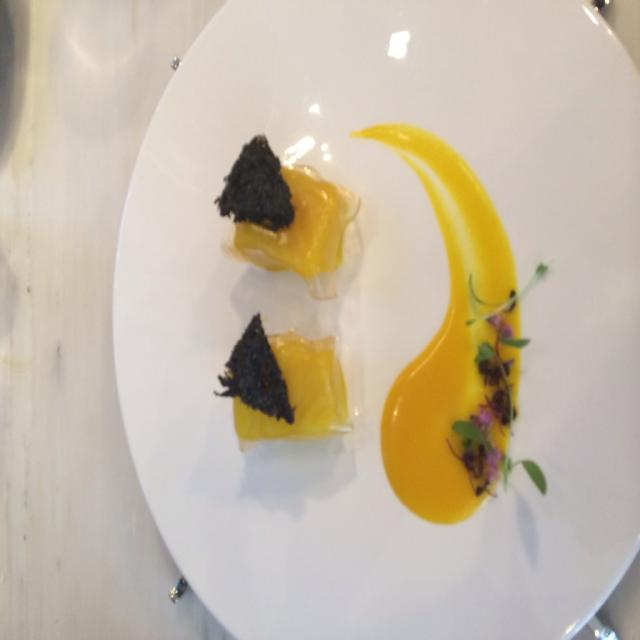non-organic waste: (109, 0, 640, 640)
